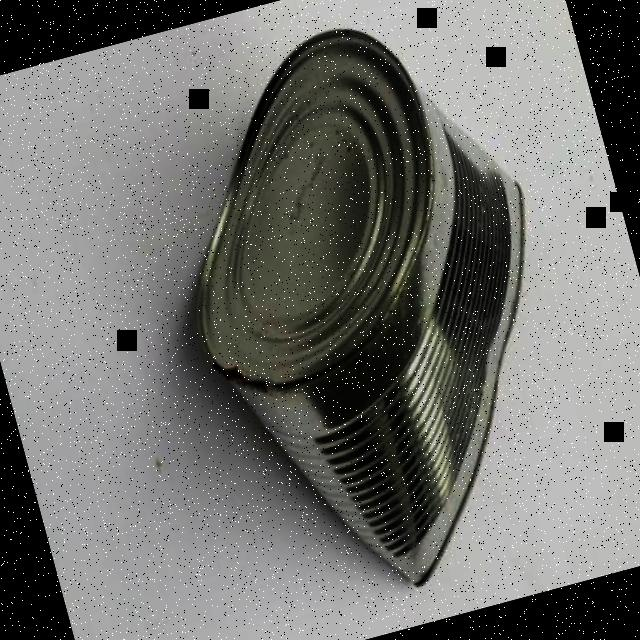can: (126, 0, 617, 631)
